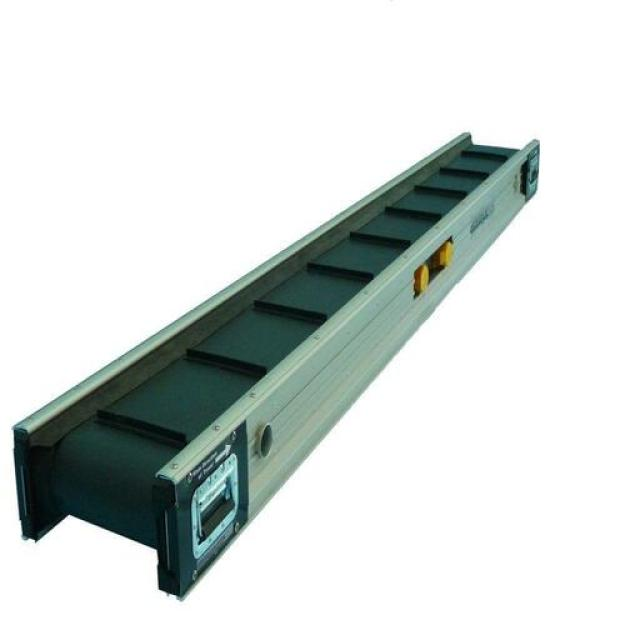conveyor: (9, 128, 544, 602)
